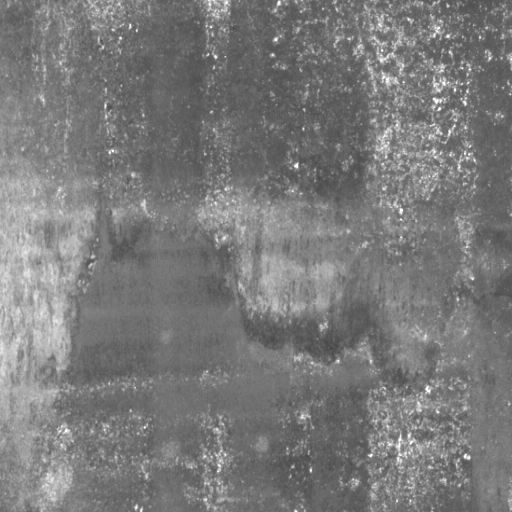qiaopi: (203, 217, 512, 396)
